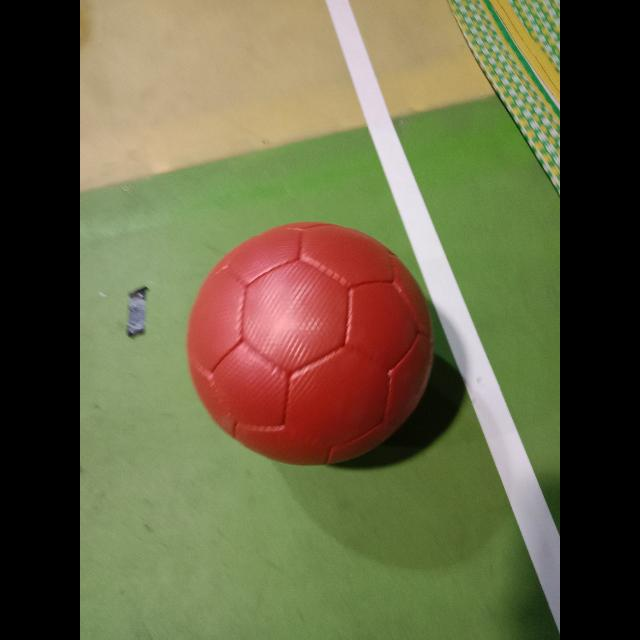R: (187, 222, 433, 466)
